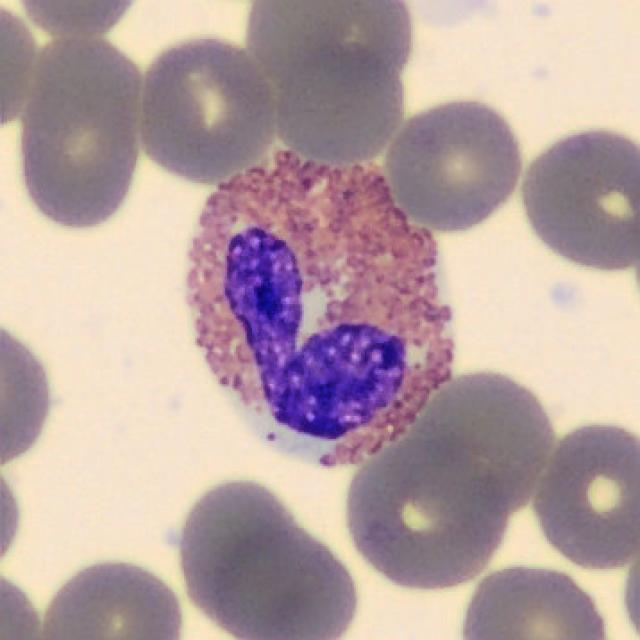Eosinofilo: (184, 151, 454, 469)
